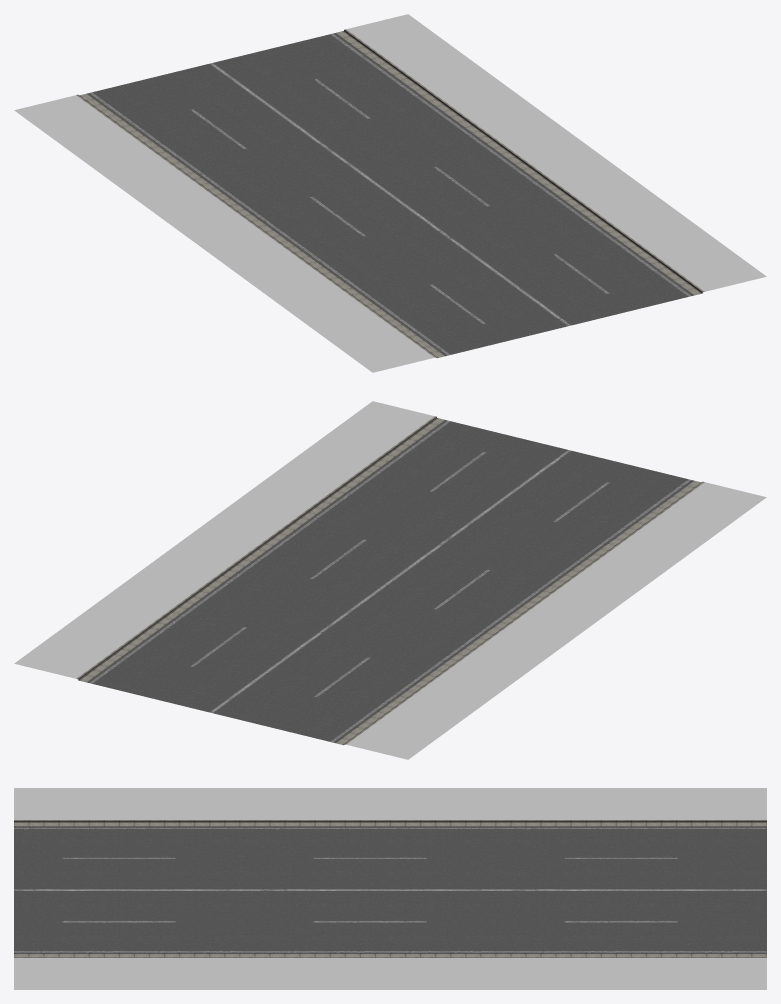
File: 4syasen30m.FBX
The picture shows the model from 3 angles, top to bottom: view 1: azimuth 30°, elevation 25°; view 2: azimuth 150°, elevation 25°; view 3: azimuth 270°, elevation 25°; orthographic projection. The views are drawn at different scales.
Visible parts, largest first — view 1: 4syasen30m; view 2: 4syasen30m; view 3: 4syasen30m.
Part boxes in pixels (bbox=[...]): 4syasen30m: bbox=[14, 14, 766, 372]; 4syasen30m: bbox=[14, 401, 766, 759]; 4syasen30m: bbox=[14, 788, 766, 989].
Bounding box in the file's own units: 1903 × 5 × 3000.
